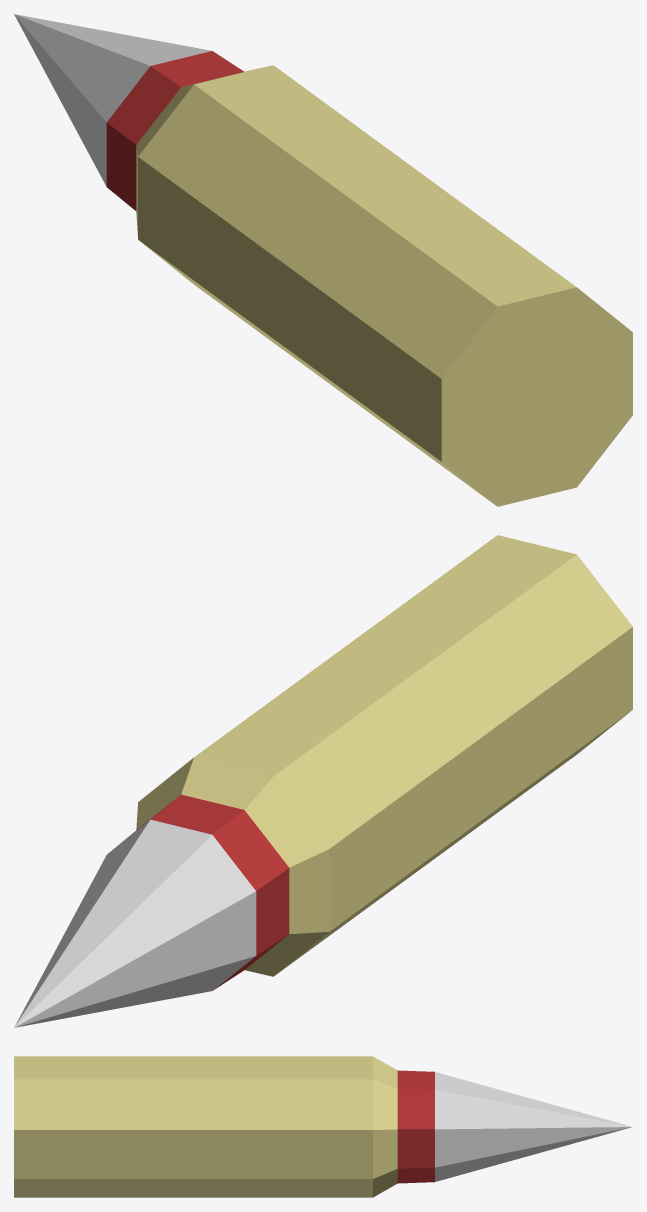
Rendered from ce_ammo_highcal_sabot_a.obj.
3 views of the same model, one above another, from view 1: azimuth 30°, elevation 25°; view 2: azimuth 150°, elevation 25°; view 3: azimuth 270°, elevation 25° (orthographic). The views are drawn at different scales.
Parts seen in each view (by area): view 1: ce_ammo_highcal_sabot_a_0, ce_ammo_highcal_sabot_a_3, ce_ammo_highcal_sabot_a_2, ce_ammo_highcal_sabot_a_1; view 2: ce_ammo_highcal_sabot_a_0, ce_ammo_highcal_sabot_a_3, ce_ammo_highcal_sabot_a_1, ce_ammo_highcal_sabot_a_2; view 3: ce_ammo_highcal_sabot_a_0, ce_ammo_highcal_sabot_a_3, ce_ammo_highcal_sabot_a_2, ce_ammo_highcal_sabot_a_1.
Boxes of the visible parts, bbox=[...] form: ce_ammo_highcal_sabot_a_0: bbox=[138, 65, 632, 506]; ce_ammo_highcal_sabot_a_3: bbox=[14, 14, 211, 186]; ce_ammo_highcal_sabot_a_2: bbox=[106, 51, 243, 210]; ce_ammo_highcal_sabot_a_1: bbox=[136, 68, 260, 234]; ce_ammo_highcal_sabot_a_0: bbox=[194, 535, 632, 974]; ce_ammo_highcal_sabot_a_3: bbox=[14, 819, 256, 1027]; ce_ammo_highcal_sabot_a_1: bbox=[136, 757, 329, 976]; ce_ammo_highcal_sabot_a_2: bbox=[114, 794, 289, 990]; ce_ammo_highcal_sabot_a_0: bbox=[14, 1056, 372, 1197]; ce_ammo_highcal_sabot_a_3: bbox=[435, 1072, 631, 1181]; ce_ammo_highcal_sabot_a_2: bbox=[397, 1070, 434, 1183]; ce_ammo_highcal_sabot_a_1: bbox=[373, 1056, 397, 1197].
Bounding box in the file's own units: 0.1478 × 0.1478 × 0.7.
